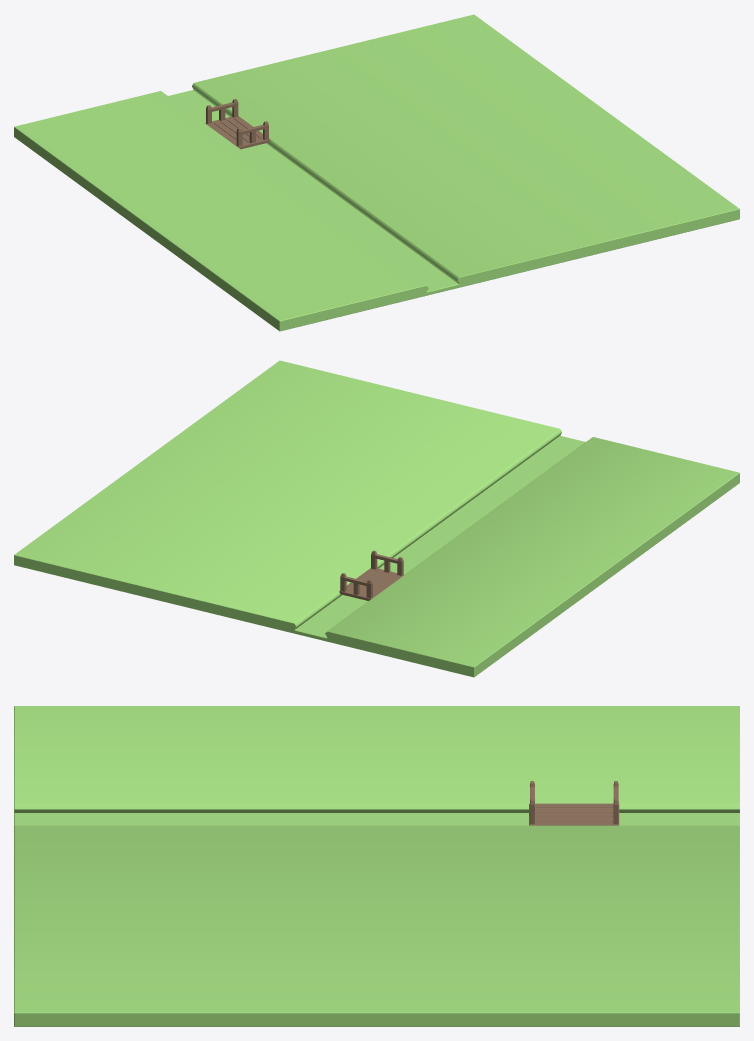
Rendered from ステージ(仮).fbx.
3 renders of one model, top to bottom at view 1: azimuth 30°, elevation 25°; view 2: azimuth 150°, elevation 25°; view 3: azimuth 270°, elevation 25°, orthographic. The views are drawn at different scales.
Parts seen in each view (by area): view 1: 地面, 橋; view 2: 地面, 橋; view 3: 地面, 橋.
Part boxes in pixels (x1,y1,x2,y2): 地面: (14, 14, 739, 331); 橋: (205, 99, 270, 149); 地面: (14, 360, 739, 677); 橋: (339, 550, 404, 600); 地面: (14, 706, 739, 1026); 橋: (529, 781, 619, 825).
Bounding box in the file's own units: 12691 × 737 × 12691.
